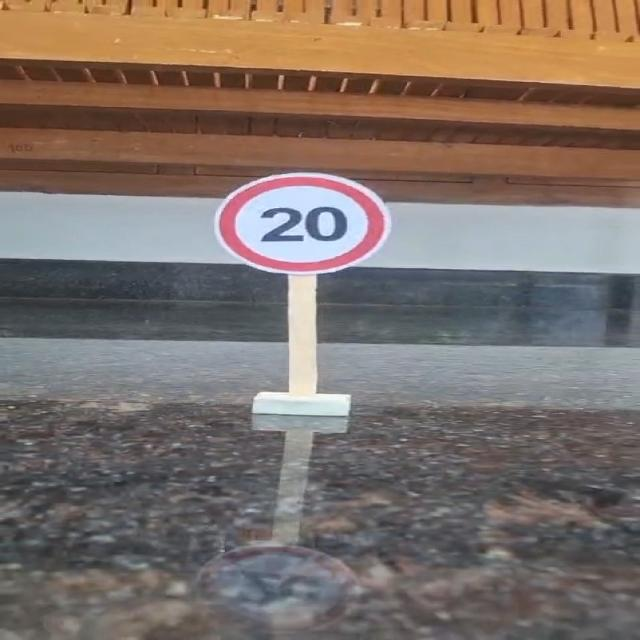Speed20: (199, 164, 401, 280)
